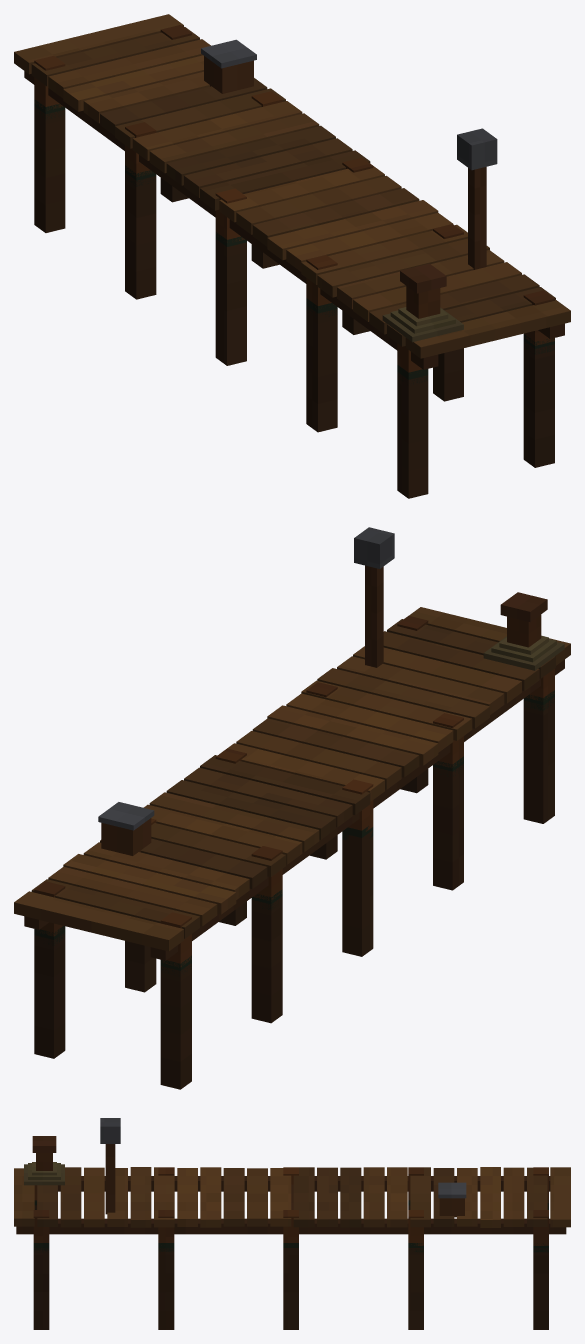
Rendered from FishingPier.glb.
3 views of the same model, one above another, from view 1: azimuth 30°, elevation 25°; view 2: azimuth 150°, elevation 25°; view 3: azimuth 270°, elevation 25° (orthographic). The views are drawn at different scales.
Visible parts, largest first — view 1: FishingPier; view 2: FishingPier; view 3: FishingPier.
Boxes of the visible parts, <box> form: FishingPier: <box>14,14,570,498</box>; FishingPier: <box>14,527,570,1089</box>; FishingPier: <box>14,1118,570,1329</box>.
Size of the model in its own units: 1.6 by 2.81 by 7.09.
1 material, 1 textured.
